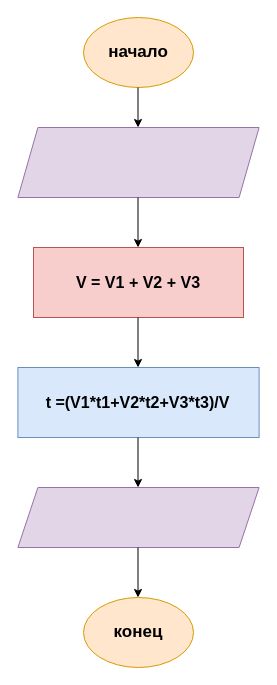
This 277x685 diagram has some shape labels left out. The box of each missing label's shape, as (x1, y1, x2, y2) in pixels:
V, t: (17, 486, 259, 548)
V1=2, t1=20, V2=3, t2=30, v3=5, t3=40: (17, 126, 259, 198)
